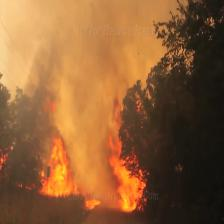fire: (0, 110, 163, 223)
